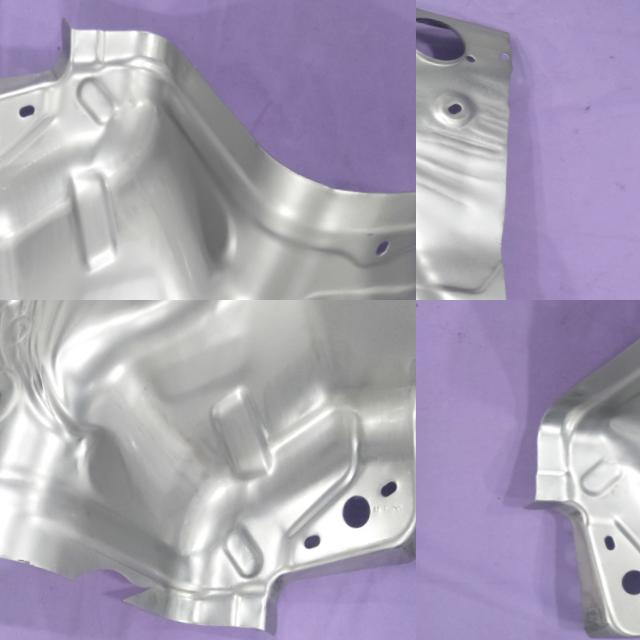Defect: (49, 534, 165, 610)
Healthy: (0, 0, 416, 300), (504, 300, 640, 640), (416, 0, 563, 300)
